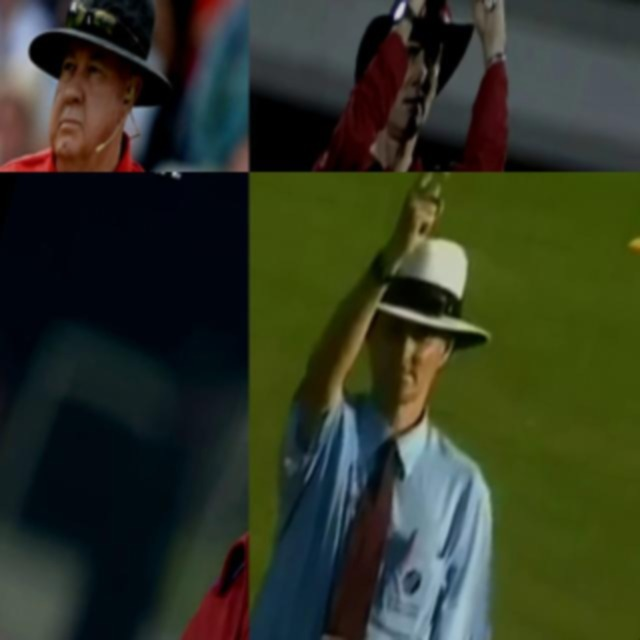No_Action: (134, 172, 249, 640)
No_Ball: (0, 0, 249, 172)
Out: (249, 172, 604, 640)
Six: (249, 0, 576, 172)
